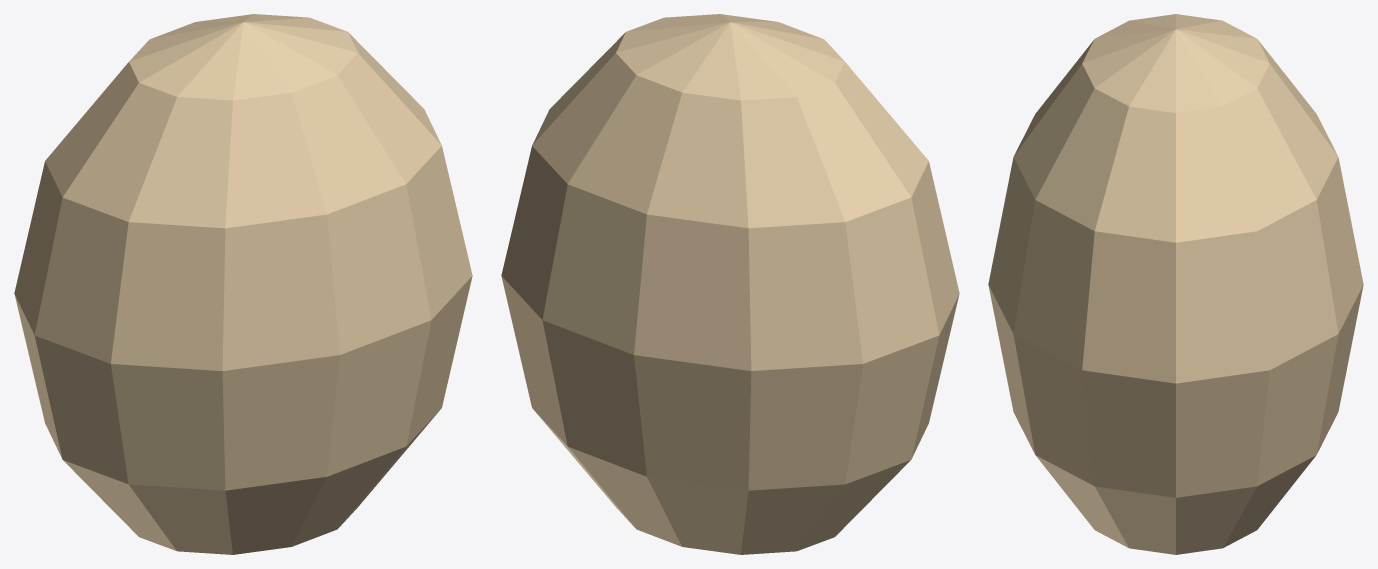
File: Bag.glb
3 renders of one model, left to right at view 1: azimuth 30°, elevation 25°; view 2: azimuth 150°, elevation 25°; view 3: azimuth 270°, elevation 25°, orthographic. The views are drawn at different scales.
Visible parts, largest first — view 1: Sack; view 2: Sack; view 3: Sack.
Boxes of the visible parts, <box> form: Sack: <box>14,14,472,554</box>; Sack: <box>501,14,959,554</box>; Sack: <box>988,14,1363,554</box>.
Bounding box in the file's own units: 0.44 × 0.528 × 0.352.
